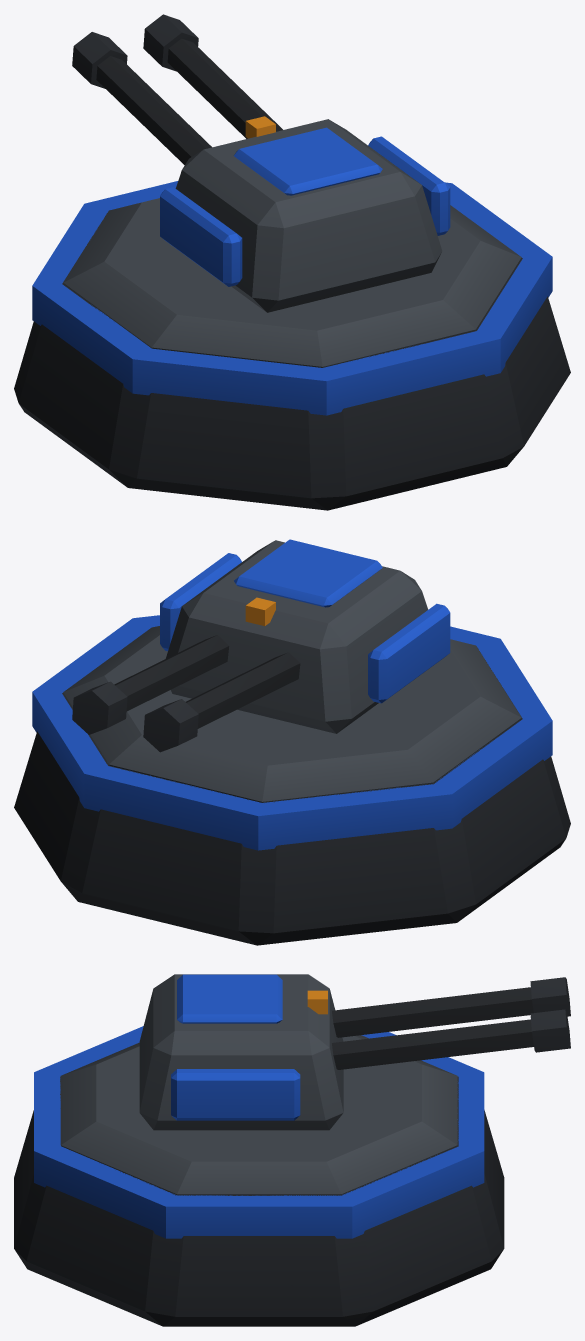
The model's file is turret.glb.
3 views of the same model, one above another, from view 1: azimuth 30°, elevation 25°; view 2: azimuth 150°, elevation 25°; view 3: azimuth 270°, elevation 25° (orthographic). The views are drawn at different scales.
Visible parts, largest first — view 1: hull, turret; view 2: hull, turret; view 3: hull, turret.
Boxes of the visible parts, box(x1,y1,x2,y2) form: hull: box(14, 181, 570, 510); turret: box(72, 14, 450, 312); hull: box(14, 615, 570, 945); turret: box(72, 539, 450, 752); hull: box(14, 1026, 504, 1326); turret: box(139, 974, 570, 1130).
Bounding box in the file's own units: 0.8353 × 0.4424 × 0.9488.
